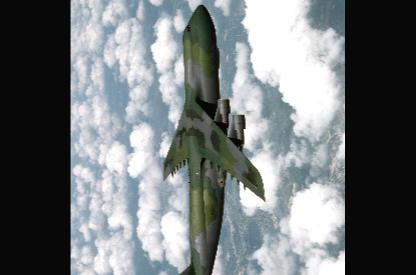C17: (147, 4, 266, 274)
